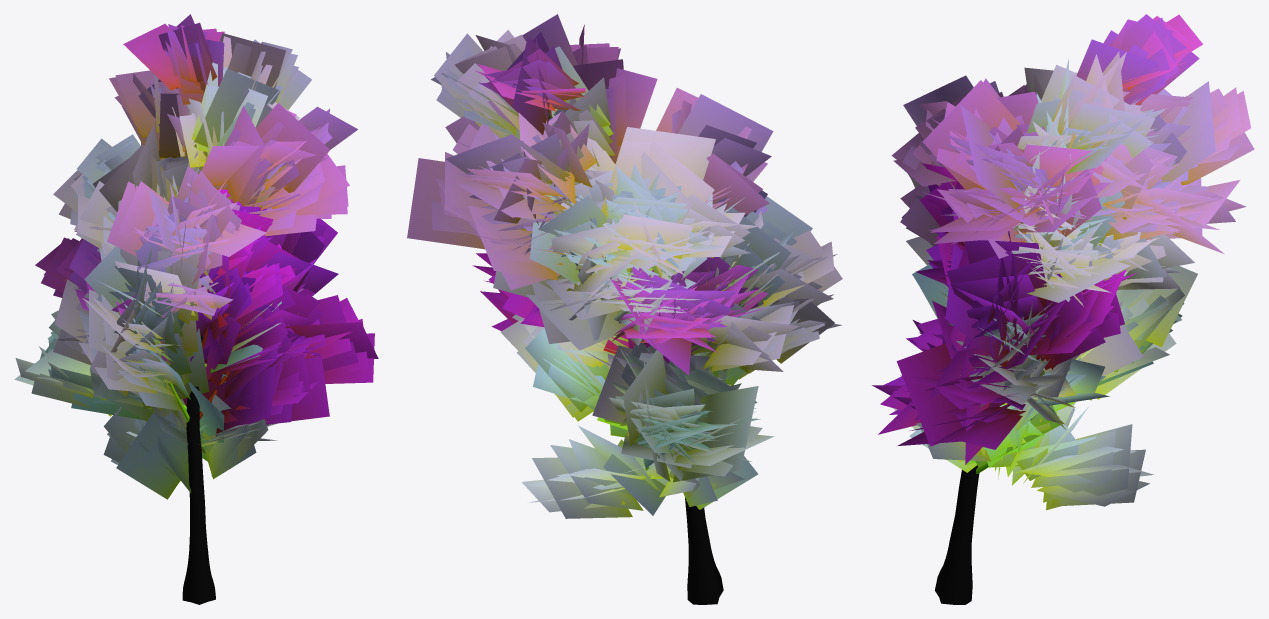
The model's file is tree_ginkgo_c.glb.
3 views of the same model, side by side, from view 1: azimuth 30°, elevation 25°; view 2: azimuth 150°, elevation 25°; view 3: azimuth 270°, elevation 25° (orthographic). The views are drawn at different scales.
Parts seen in each view (by area): view 1: tree_ginkgo_c; view 2: tree_ginkgo_c; view 3: tree_ginkgo_c.
Part boxes in pixels (bbox=[...]): tree_ginkgo_c: bbox=[14, 14, 378, 604]; tree_ginkgo_c: bbox=[407, 14, 842, 604]; tree_ginkgo_c: bbox=[872, 14, 1254, 604].
Bounding box in the file's own units: 7.82 × 12.73 × 7.05.
